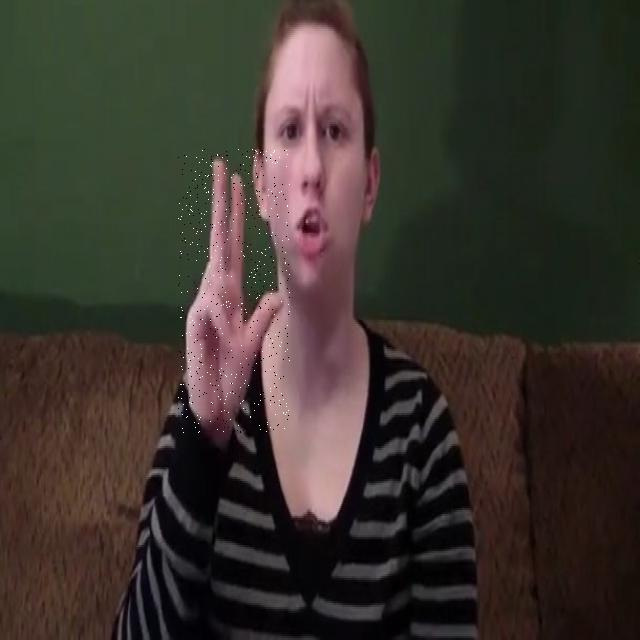no: (178, 150, 290, 433)
